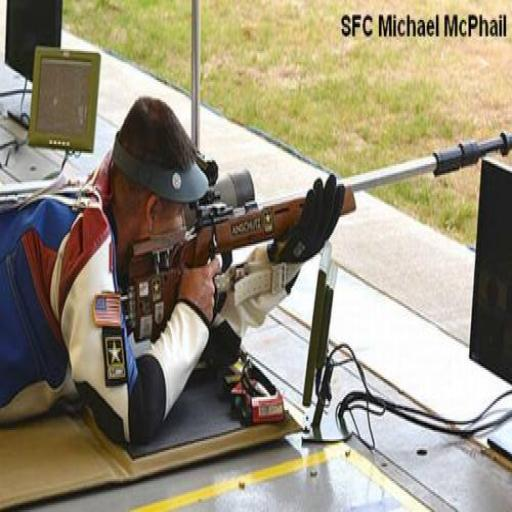shooting: (8, 86, 512, 417)
